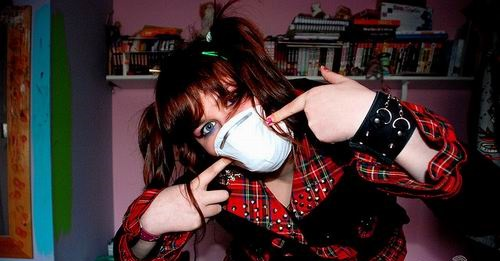face_mask: (189, 81, 293, 173)
